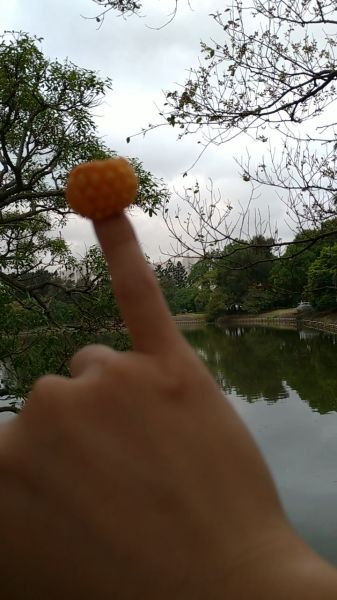eggs: (64, 158, 138, 219)
